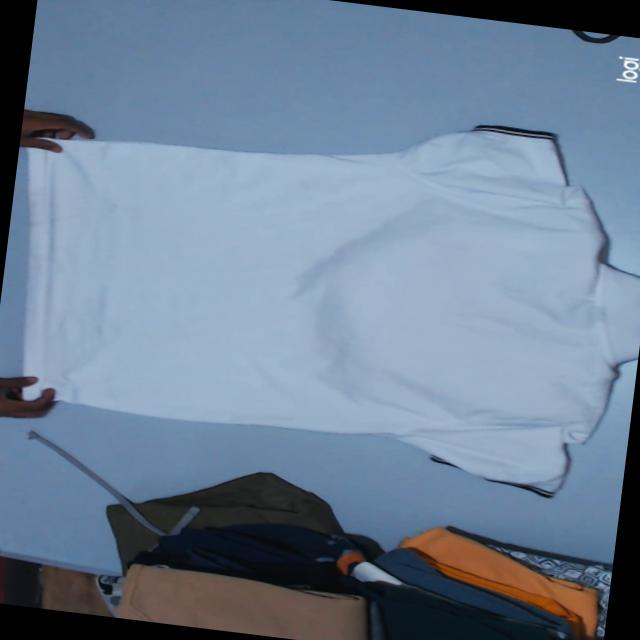new-garment: (23, 124, 640, 490)
